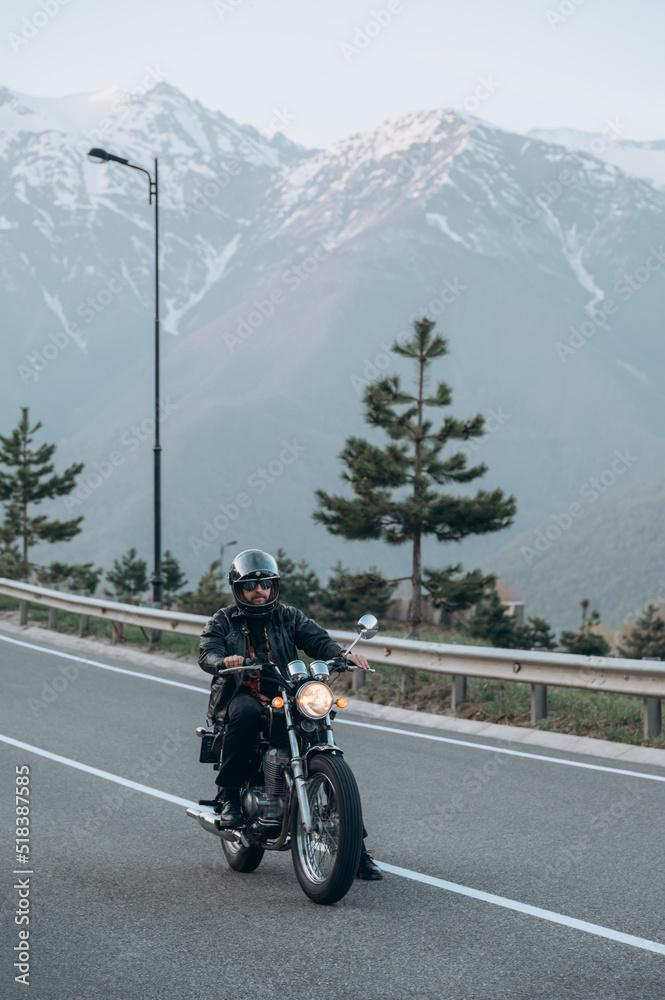helmet: (228, 548, 281, 616)
